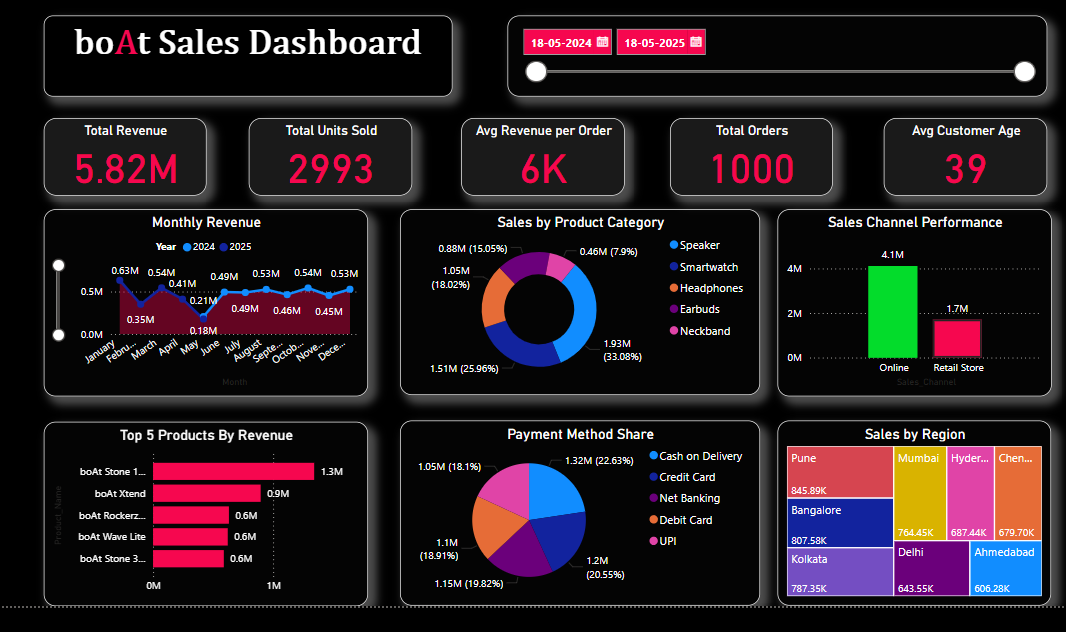

This screenshot's page, from the dashboard's own definition file:
{"tool":"powerbi","page":{"name":"Page 1","canvas":[1280,720],"ordinal":0},"visuals":[{"type":"card","title":"Total Revenue","fields":{"Values":["All Measures.Total Revenue"]},"box":[69.6,142.1,192.4,91.8],"z":0},{"type":"card","title":"Total Units Sold","fields":{"Values":["All Measures.Total Units Sold"]},"box":[327.1,142.1,193.9,91.8],"z":1000},{"type":"card","title":"Avg Revenue per Order","fields":{"Values":["All Measures.Avg_Revenue Per Order"]},"box":[575.8,142.1,193.9,91.8],"z":2000},{"type":"card","title":"Total Orders","fields":{"Values":["All Measures.Total Order"]},"box":[820,142.1,192.4,91.8],"z":3000},{"type":"card","title":"Avg Customer Age","fields":{"Values":["All Measures.Avg_Customer_Age"]},"box":[1068.6,142.1,193.9,91.8],"z":4000},{"type":"areaChart","title":"Monthly Revenue","fields":{"Category":["Sheet1.Order_Date.Variation.Date Hierarchy.Month"],"Y":["Sum(Sheet1.Final_Revenue)"],"Series":["Sheet1.Order_Date.Variation.Date Hierarchy.Year"]},"box":[69.4,249.6,383.9,221.5],"z":5000},{"type":"clusteredBarChart","title":"Top 5 Products By Revenue","fields":{"Category":["Sheet1.Product_Name"],"Y":["Sum(Sheet1.Final_Revenue)"]},"box":[69.4,502.1,383.9,218.6],"z":6000},{"type":"donutChart","title":"Sales by Product Category","fields":{"Y":["Sum(Sheet1.Final_Revenue)"],"Category":["Sheet1.Product_Category"]},"box":[491.7,249.6,426.8,220],"z":7000},{"type":"pieChart","title":"Payment Method Share","fields":{"Y":["Sum(Sheet1.Final_Revenue)"],"Category":["Sheet1.Payment_Method"]},"box":[491.4,500.3,426.3,219.1],"z":8000},{"type":"clusteredColumnChart","title":"\tSales Channel Performance","fields":{"Category":["Sheet1.Sales_Channel"],"Y":["Sum(Sheet1.Final_Revenue)"]},"box":[937.7,249.6,324.9,221.5],"z":9000},{"type":"treemap","title":"Sales by Region","fields":{"Group":["Sheet1.Region"],"Values":["Sum(Sheet1.Final_Revenue)"]},"box":[938,487,325,219],"z":10000},{"type":"slicer","fields":{"Values":["Sheet1.Order_Date"]},"box":[618.7,20.7,639.4,96.2],"z":11000},{"type":"textbox","box":[69.6,20.7,484,96.2],"z":12000}]}

Visuals, with their boxes in screenshot pixels (x1, y1, x2, y2):
"Total Revenue" card: 40 115 204 194
"Total Units Sold" card: 259 115 424 194
"Avg Revenue per Order" card: 471 115 636 194
"Total Orders" card: 679 115 843 194
"Avg Customer Age" card: 890 115 1056 194
"Monthly Revenue" areaChart: 40 207 367 396
"Top 5 Products By Revenue" clusteredBarChart: 40 422 367 608
"Sales by Product Category" donutChart: 399 207 763 394
"Payment Method Share" pieChart: 399 420 762 607
"	Sales Channel Performance" clusteredColumnChart: 779 207 1056 396
"Sales by Region" treemap: 779 409 1056 596
slicer - Sheet1.Order_Date: 507 12 1052 94
textbox: 40 12 452 94
